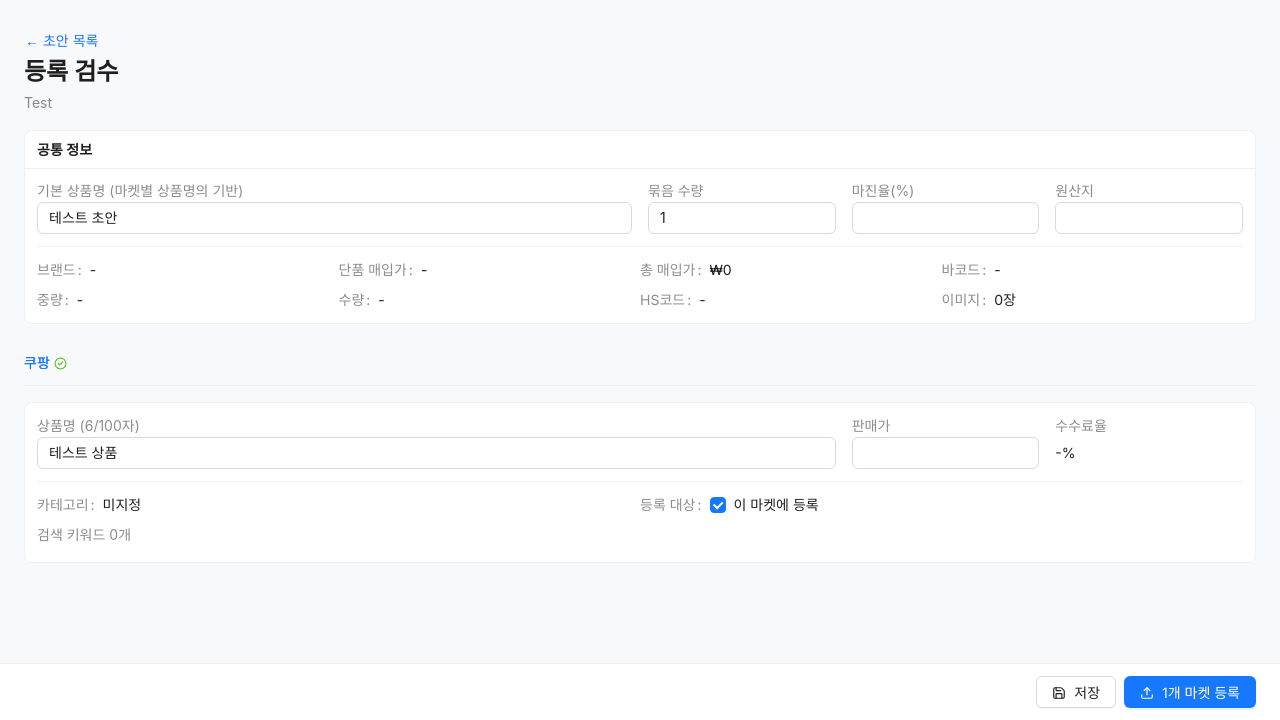
추천상품 초안 등록 대상 › 등록 대상을 모두 해제하면 저장 전에도 등록 버튼이 비활성화된다
Expected: the field showing "테스트 초안" below "기본 상품명 (마켓별 상품명의 기반)" is shown, [37,202,632,234]
Click the checkbox labelled "이 마켓에 등록": (768, 505) [710,494,827,516]
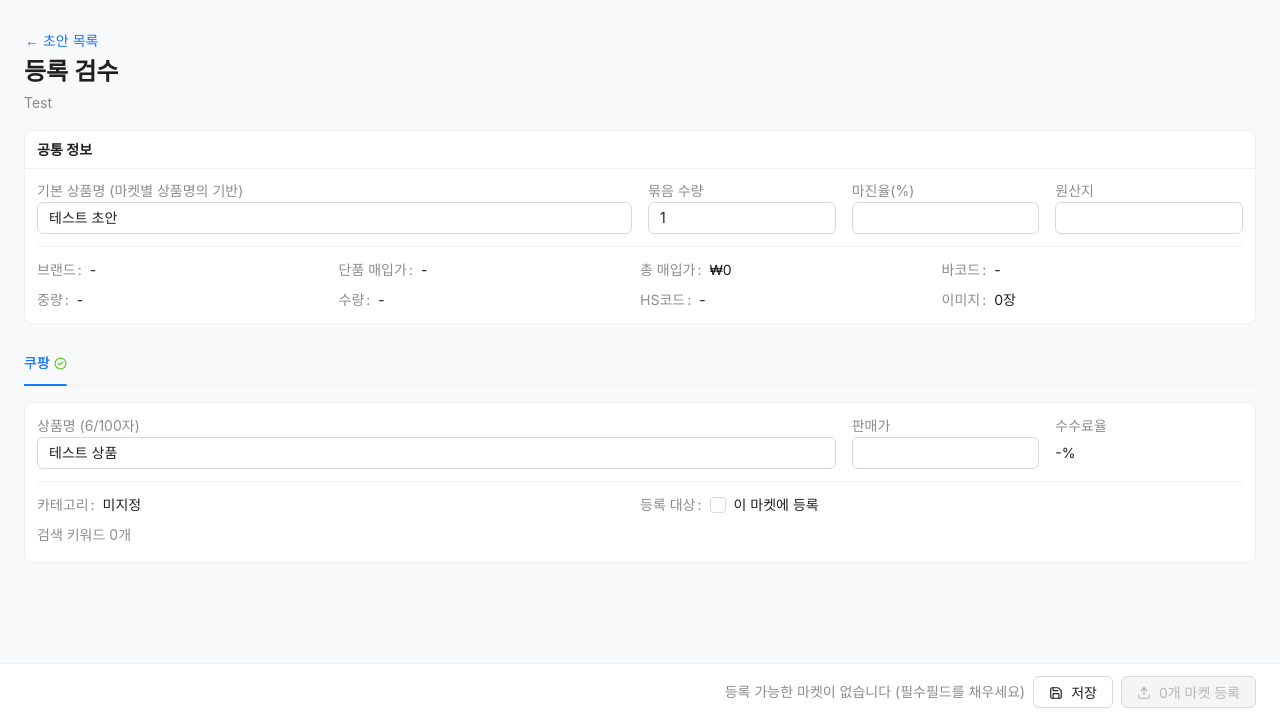
Now the button "0개 마켓 등록" is disabled, box [1121,676,1256,708]
